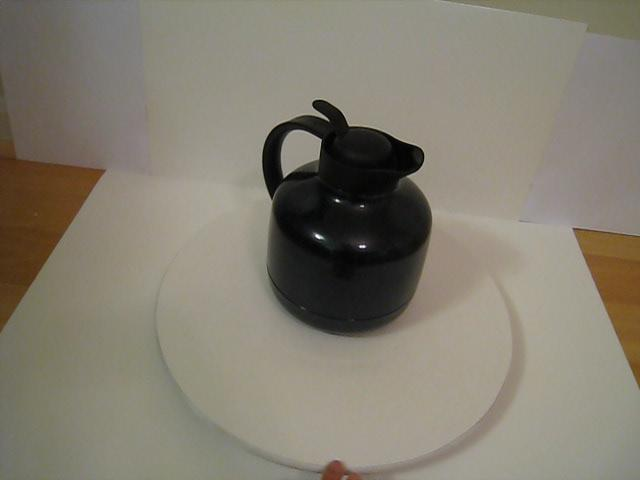pitcher: (257, 94, 444, 354)
